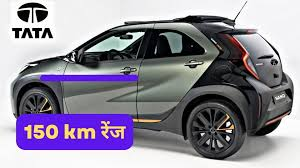Nano: (11, 15, 295, 163)
